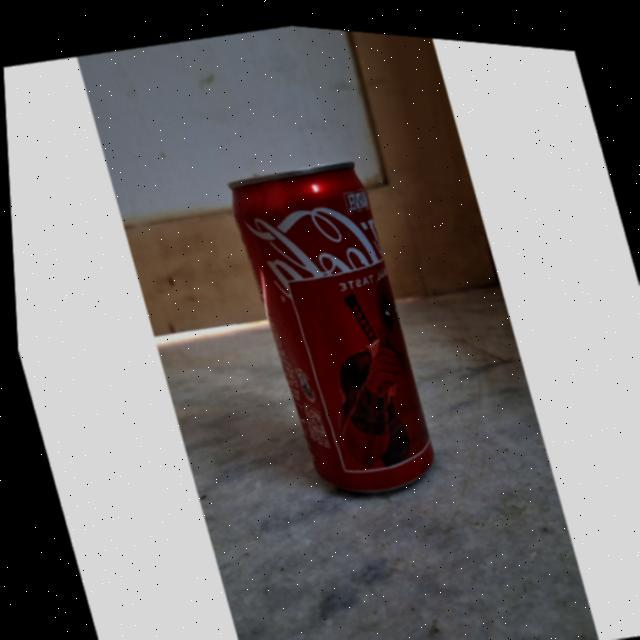Coca Cola - Marvel: (225, 149, 446, 502)
